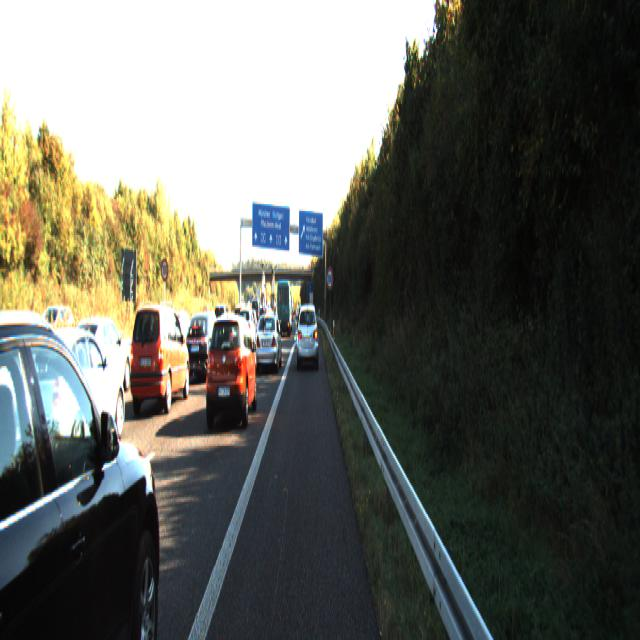Car: (0, 302, 170, 638), (11, 323, 126, 479), (0, 317, 63, 457), (128, 301, 190, 417), (204, 314, 258, 432), (67, 314, 131, 408), (184, 310, 223, 383), (254, 312, 282, 376), (296, 302, 318, 369), (275, 278, 290, 336), (237, 307, 257, 350)
